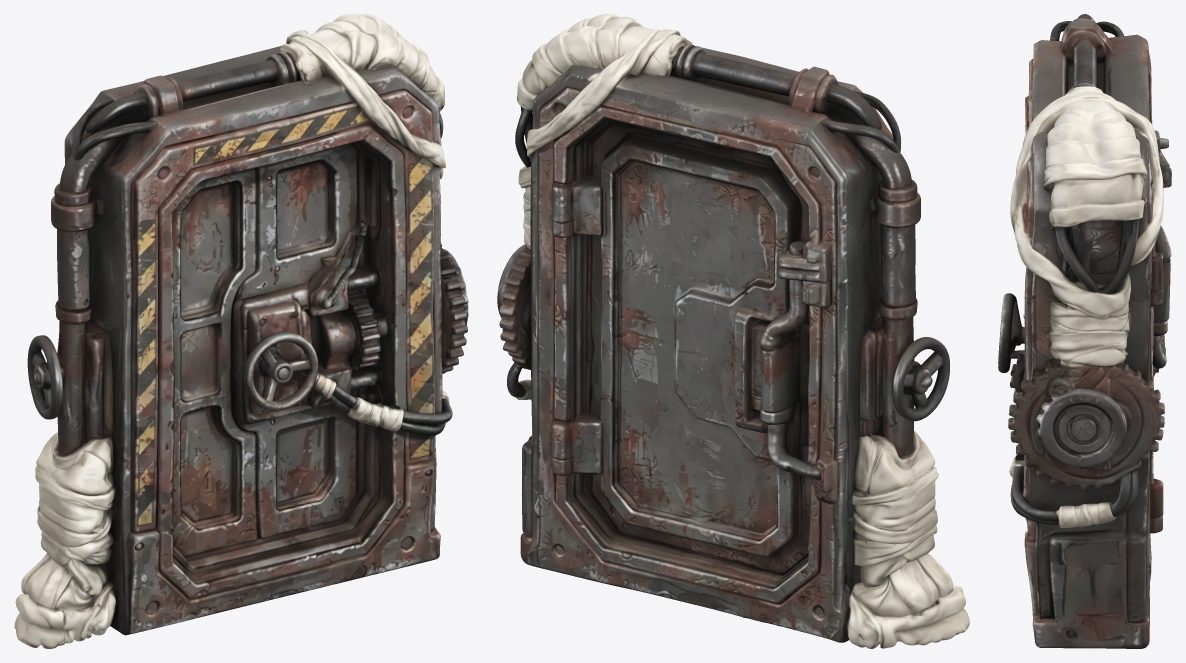
The model's file is base_basic_shaded(3).glb.
The picture shows the model from 3 angles, left to right: view 1: azimuth 30°, elevation 25°; view 2: azimuth 150°, elevation 25°; view 3: azimuth 270°, elevation 25°; orthographic projection. The views are drawn at different scales.
Parts seen in each view (by area): view 1: model; view 2: model; view 3: model.
Boxes of the visible parts, <box> form: model: <box>14,14,468,648</box>; model: <box>497,14,969,648</box>; model: <box>998,14,1171,648</box>.
Bounding box in the file's own units: 1.65 × 1.9 × 0.5857.
1 material, 1 textured.
